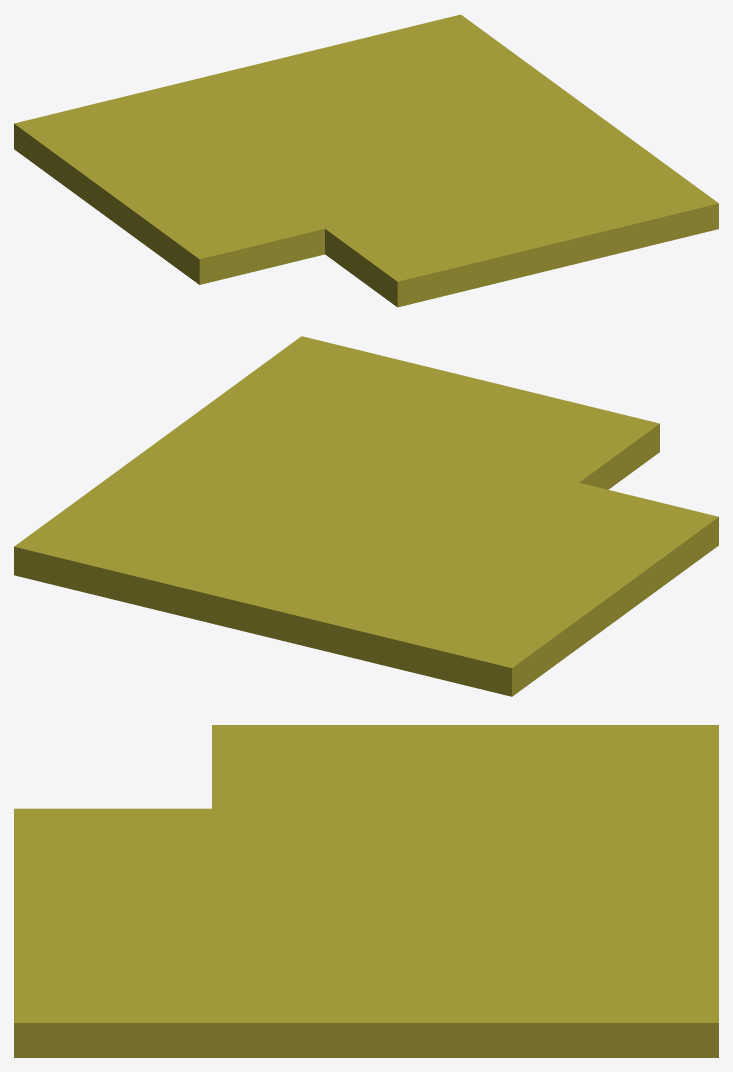
Rendered from CabinetCorner.fbx.
3 views of the same model, one above another, from view 1: azimuth 30°, elevation 25°; view 2: azimuth 150°, elevation 25°; view 3: azimuth 270°, elevation 25° (orthographic). The views are drawn at different scales.
Visible parts, largest first — view 1: Cube.027; view 2: Cube.027; view 3: Cube.027.
Part boxes in pixels (x1=…): Cube.027: x1=14, y1=14, x2=718, y2=307; Cube.027: x1=14, y1=336, x2=718, y2=696; Cube.027: x1=14, y1=725, x2=718, y2=1057.
Bounding box in the file's own units: 199 × 10.95 × 199.
